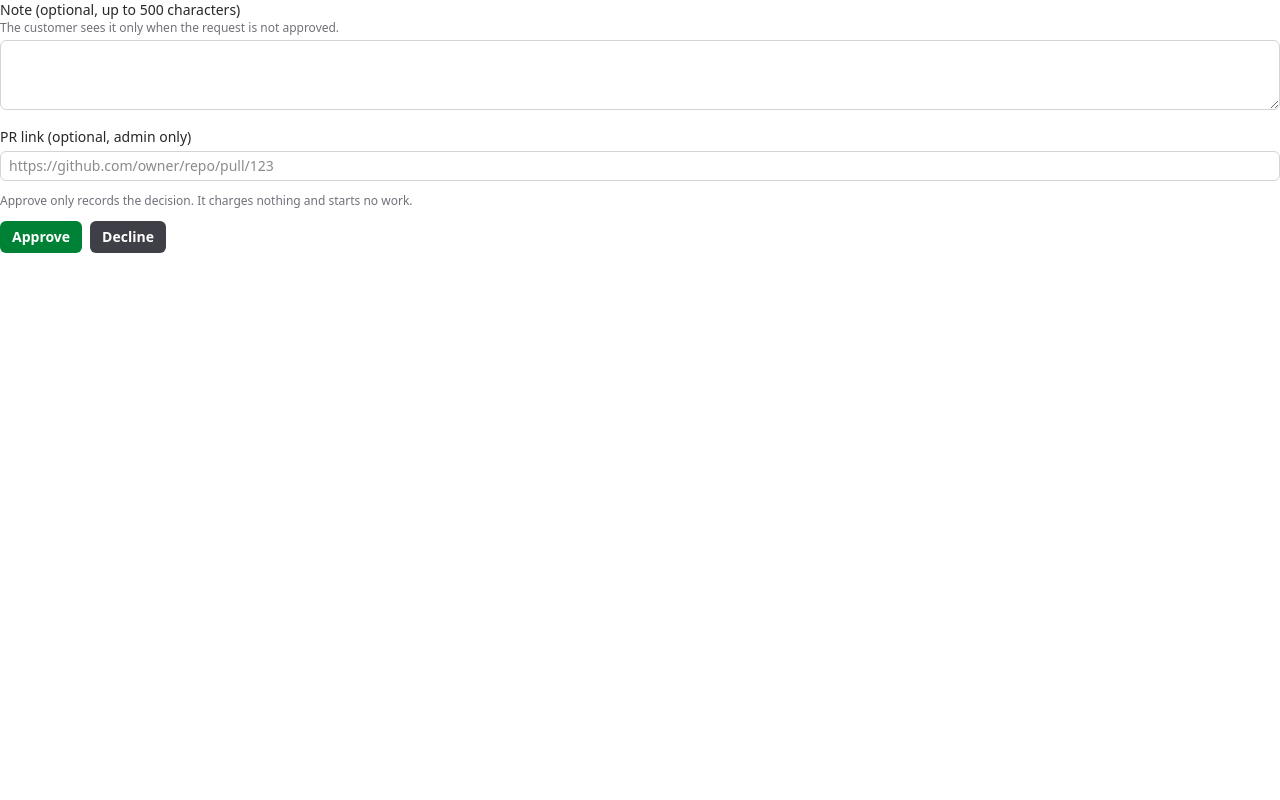
Test: Approve / Decline confirm step (Aria ruling 5) › Decline confirm says what the customer sees; Cancel closes it
Click the button "Decline".
click(128, 237)  # box [90,221,166,253]
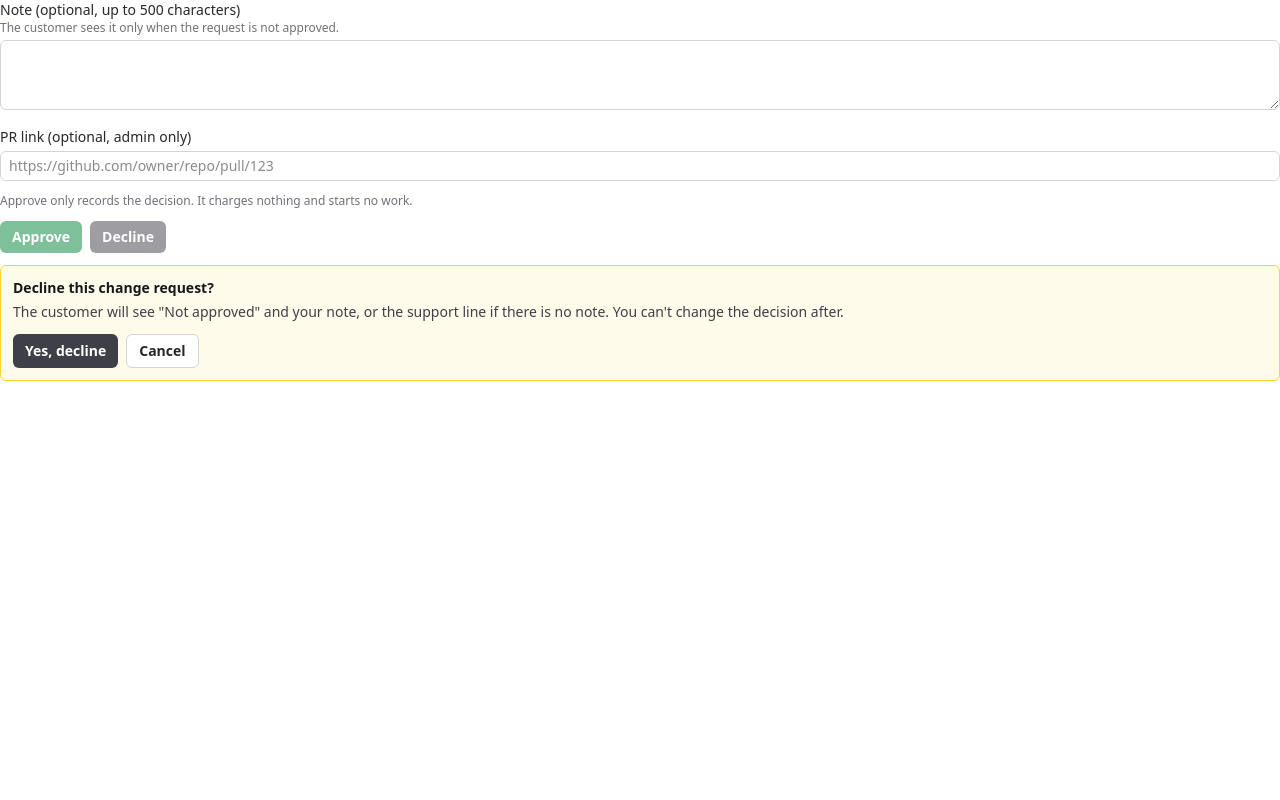
Click the button "Cancel".
click(162, 351)  # box [126,334,199,368]
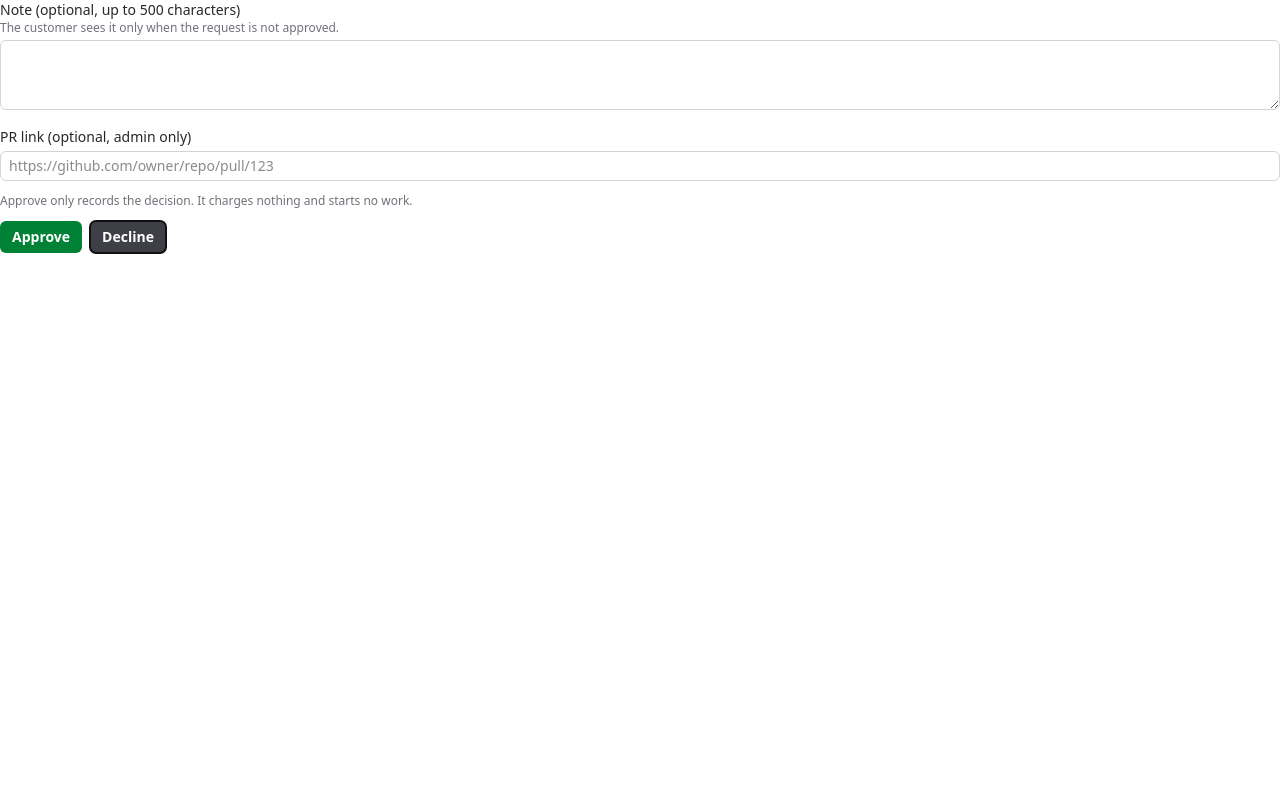
Check: the dialog is gone
